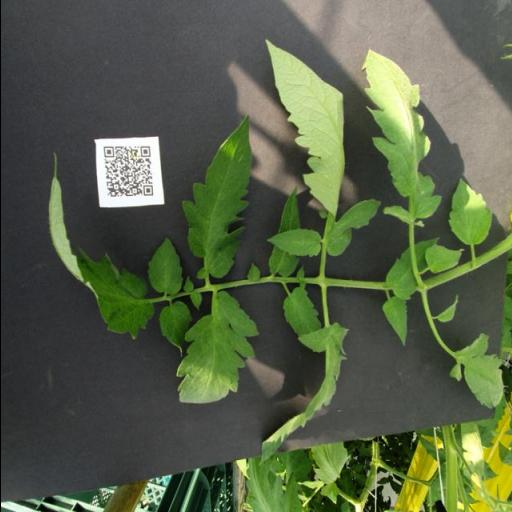Healthy: (46, 148, 155, 340), (360, 48, 442, 228), (256, 320, 350, 464), (180, 111, 252, 279), (174, 292, 258, 406), (447, 331, 505, 408), (383, 236, 441, 300), (447, 176, 491, 246), (145, 236, 184, 296), (280, 286, 322, 338), (156, 302, 194, 358), (422, 244, 466, 274)
